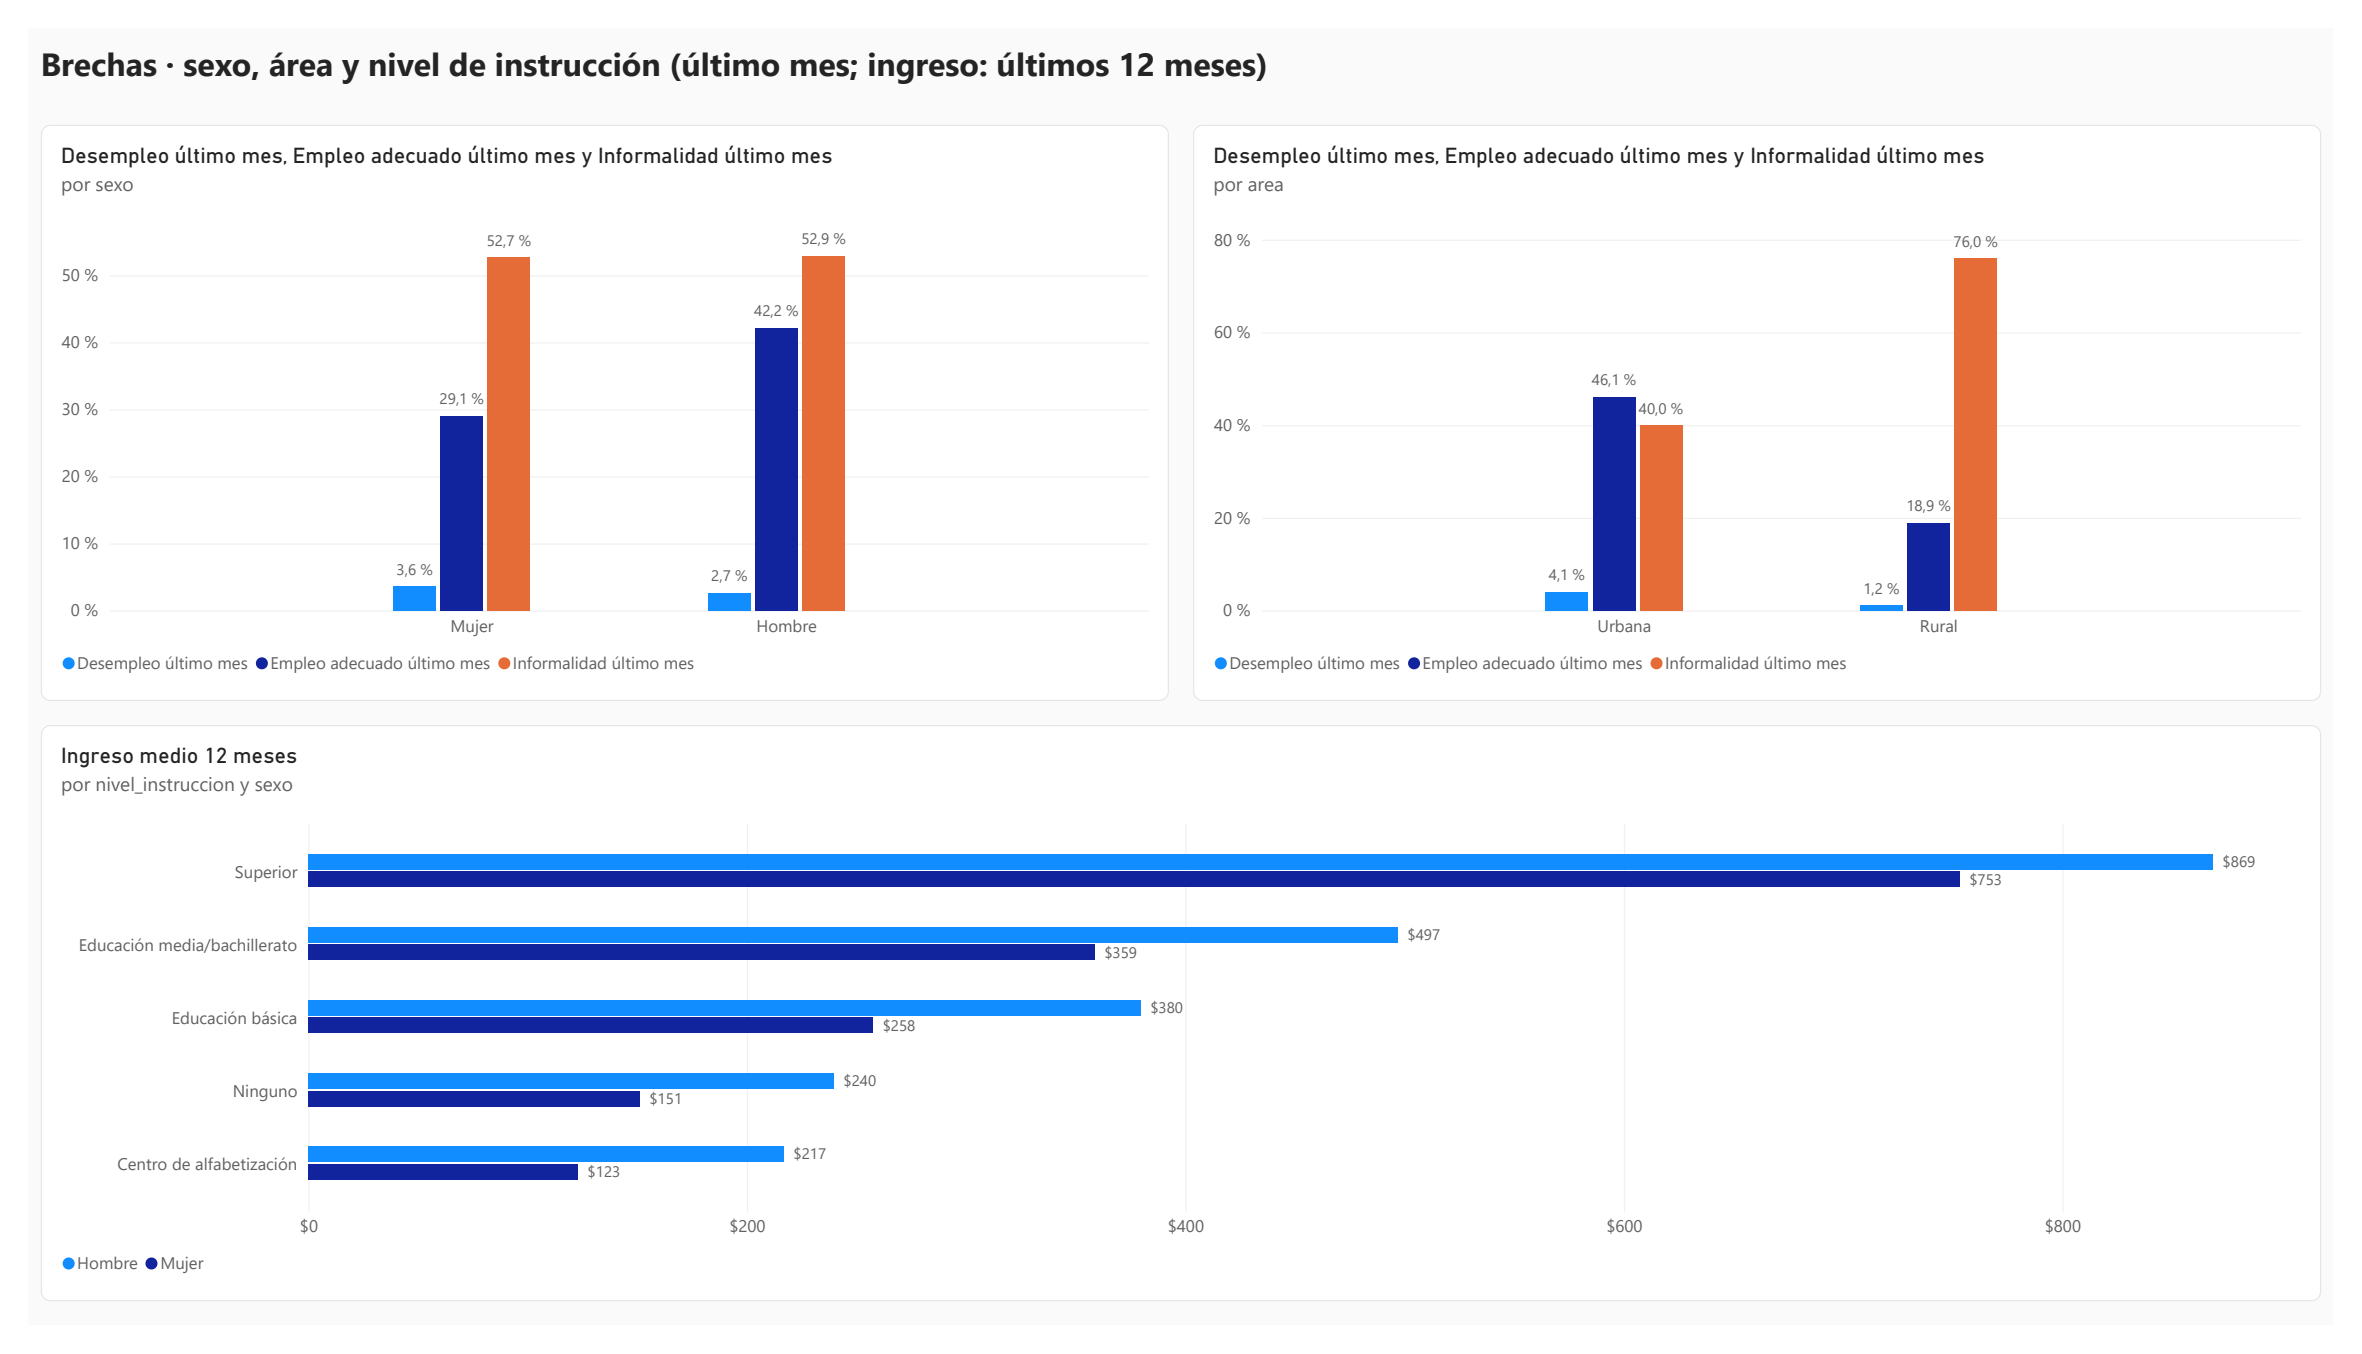

Layout of this report page (visuals, bound fields, positions):
{"tool":"powerbi","page":{"name":"Brechas","canvas":[1920,1080],"ordinal":1},"visuals":[{"type":"clusteredColumnChart","fields":{"Category":["bi_mercado_laboral.sexo"],"Y":["bi_mercado_laboral.Desempleo último mes","bi_mercado_laboral.Empleo adecuado último mes","bi_mercado_laboral.Informalidad último mes"]},"box":[10.3,80,940,480],"z":0},{"type":"clusteredColumnChart","fields":{"Category":["bi_mercado_laboral.area"],"Y":["bi_mercado_laboral.Desempleo último mes","bi_mercado_laboral.Empleo adecuado último mes","bi_mercado_laboral.Informalidad último mes"]},"box":[970,80,940,480],"z":1000},{"type":"clusteredBarChart","fields":{"Category":["bi_mercado_laboral.nivel_instruccion"],"Series":["bi_mercado_laboral.sexo"],"Y":["bi_mercado_laboral.Ingreso medio 12 meses"]},"box":[10,580,1900,480],"z":2000},{"type":"textbox","box":[10,10,1867,60],"z":3000}]}

Visuals, with their boxes in screenshot pixels (x1, y1, x2, y2), scaled from the page's 1920x1080 canvas onto the 2362x1354 screenshot:
clusteredColumnChart - bi_mercado_laboral.sexo x bi_mercado_laboral.Desempleo último mes: BBox(13, 100, 1169, 702)
clusteredColumnChart - bi_mercado_laboral.area x bi_mercado_laboral.Desempleo último mes: BBox(1193, 100, 2350, 702)
clusteredBarChart - bi_mercado_laboral.nivel_instruccion x bi_mercado_laboral.sexo: BBox(12, 727, 2350, 1329)
textbox: BBox(12, 13, 2309, 88)
